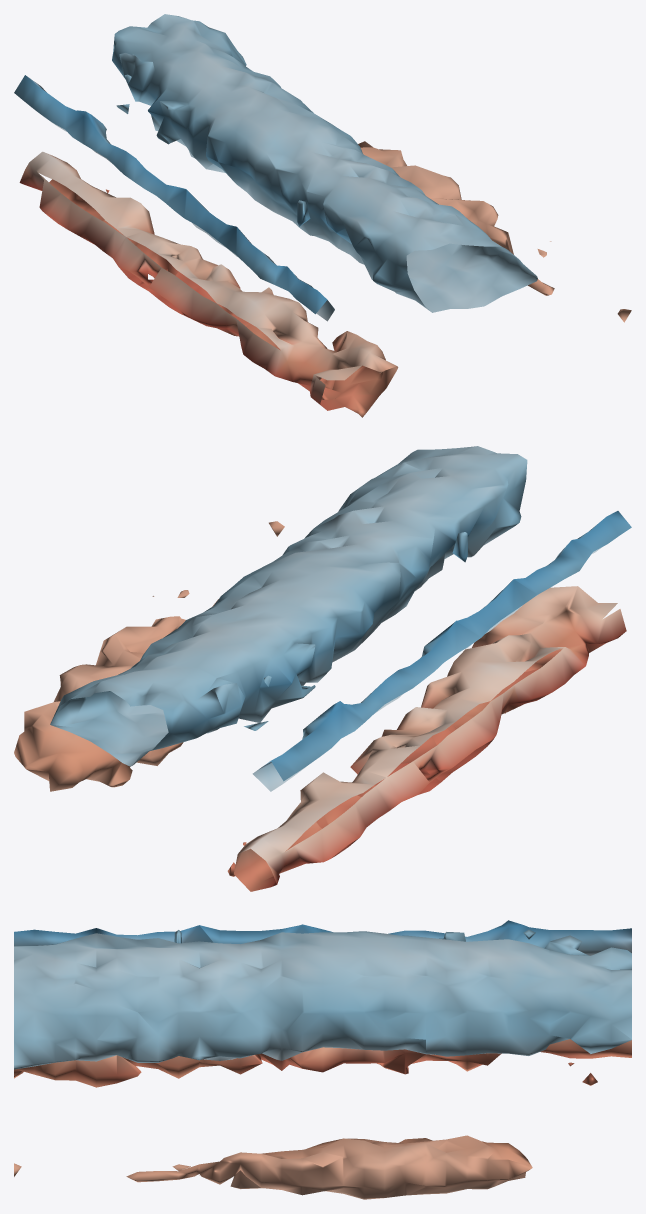
The picture shows the model from 3 angles, top to bottom: view 1: azimuth 30°, elevation 25°; view 2: azimuth 150°, elevation 25°; view 3: azimuth 270°, elevation 25°; orthographic projection. The views are drawn at different scales.
Size of the model in its own units: 1.58 by 0.7883 by 2.5.
